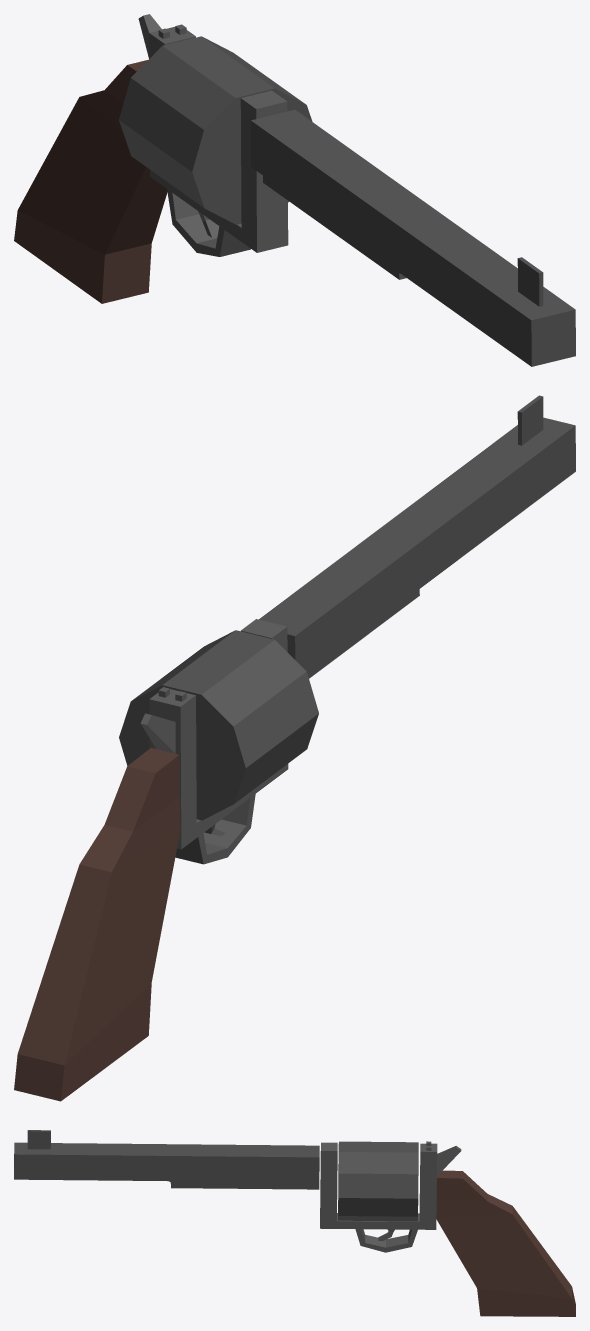
Rendered from Revolver.fbx.
3 views of the same model, one above another, from view 1: azimuth 30°, elevation 25°; view 2: azimuth 150°, elevation 25°; view 3: azimuth 270°, elevation 25° (orthographic). The views are drawn at different scales.
Visible parts, largest first — view 1: Revolver; view 2: Revolver; view 3: Revolver.
Boxes of the visible parts, x1,y1,x2,y2 form: Revolver: [14, 14, 575, 366]; Revolver: [14, 395, 575, 1101]; Revolver: [14, 1130, 575, 1316].
Size of the model in its own units: 127 by 315 by 891.
